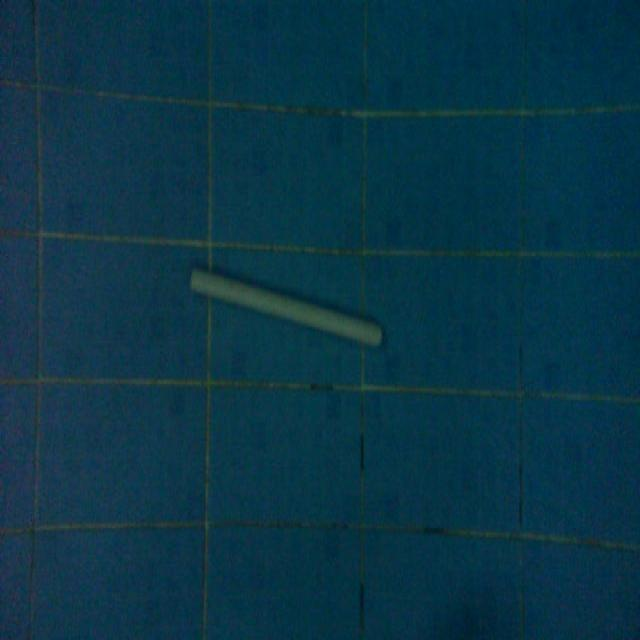Cube: (188, 260, 384, 354)
